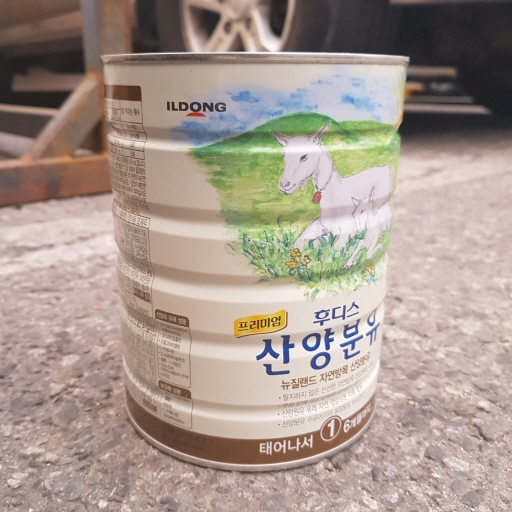Metal_1: (100, 47, 412, 470)
